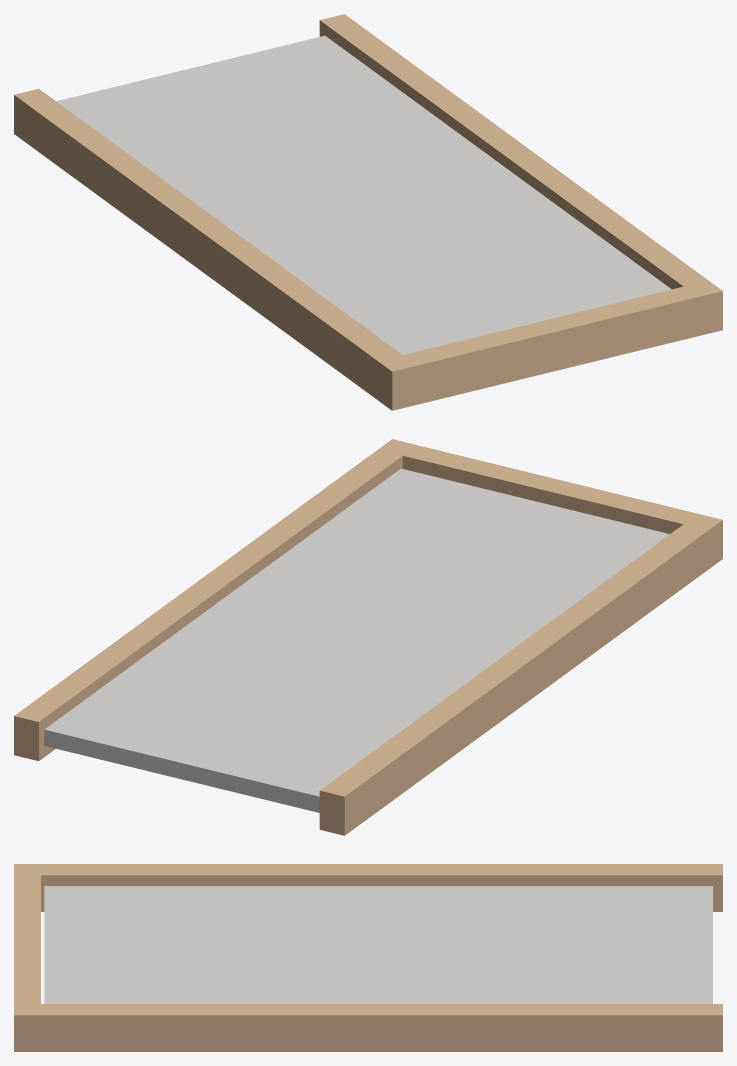
File: interior_door.glb
The picture shows the model from 3 angles, top to bottom: view 1: azimuth 30°, elevation 25°; view 2: azimuth 150°, elevation 25°; view 3: azimuth 270°, elevation 25°; orthographic projection. The views are drawn at different scales.
Parts seen in each view (by area): view 1: world; view 2: world; view 3: world.
Boxes of the visible parts, bbox=[...] form: world: bbox=[14, 14, 722, 410]; world: bbox=[14, 439, 722, 835]; world: bbox=[14, 864, 722, 1051].
Size of the model in its own units: 1.06 by 0.165 by 2.1.
